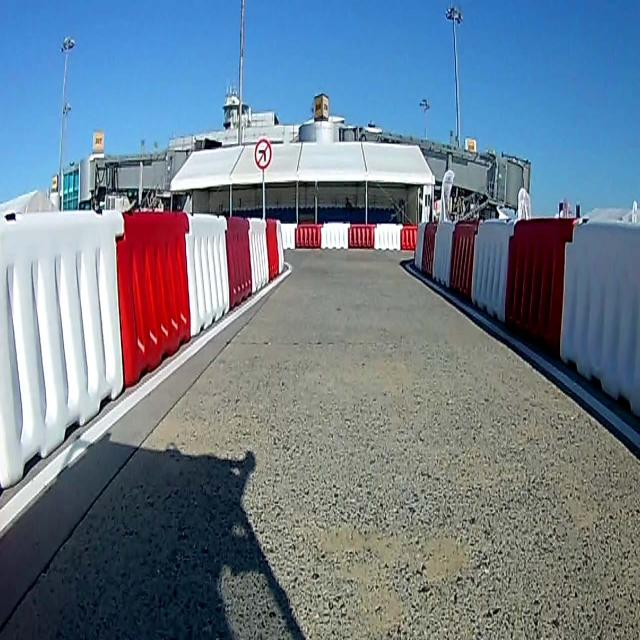soladonulmez: (256, 140, 272, 170)
